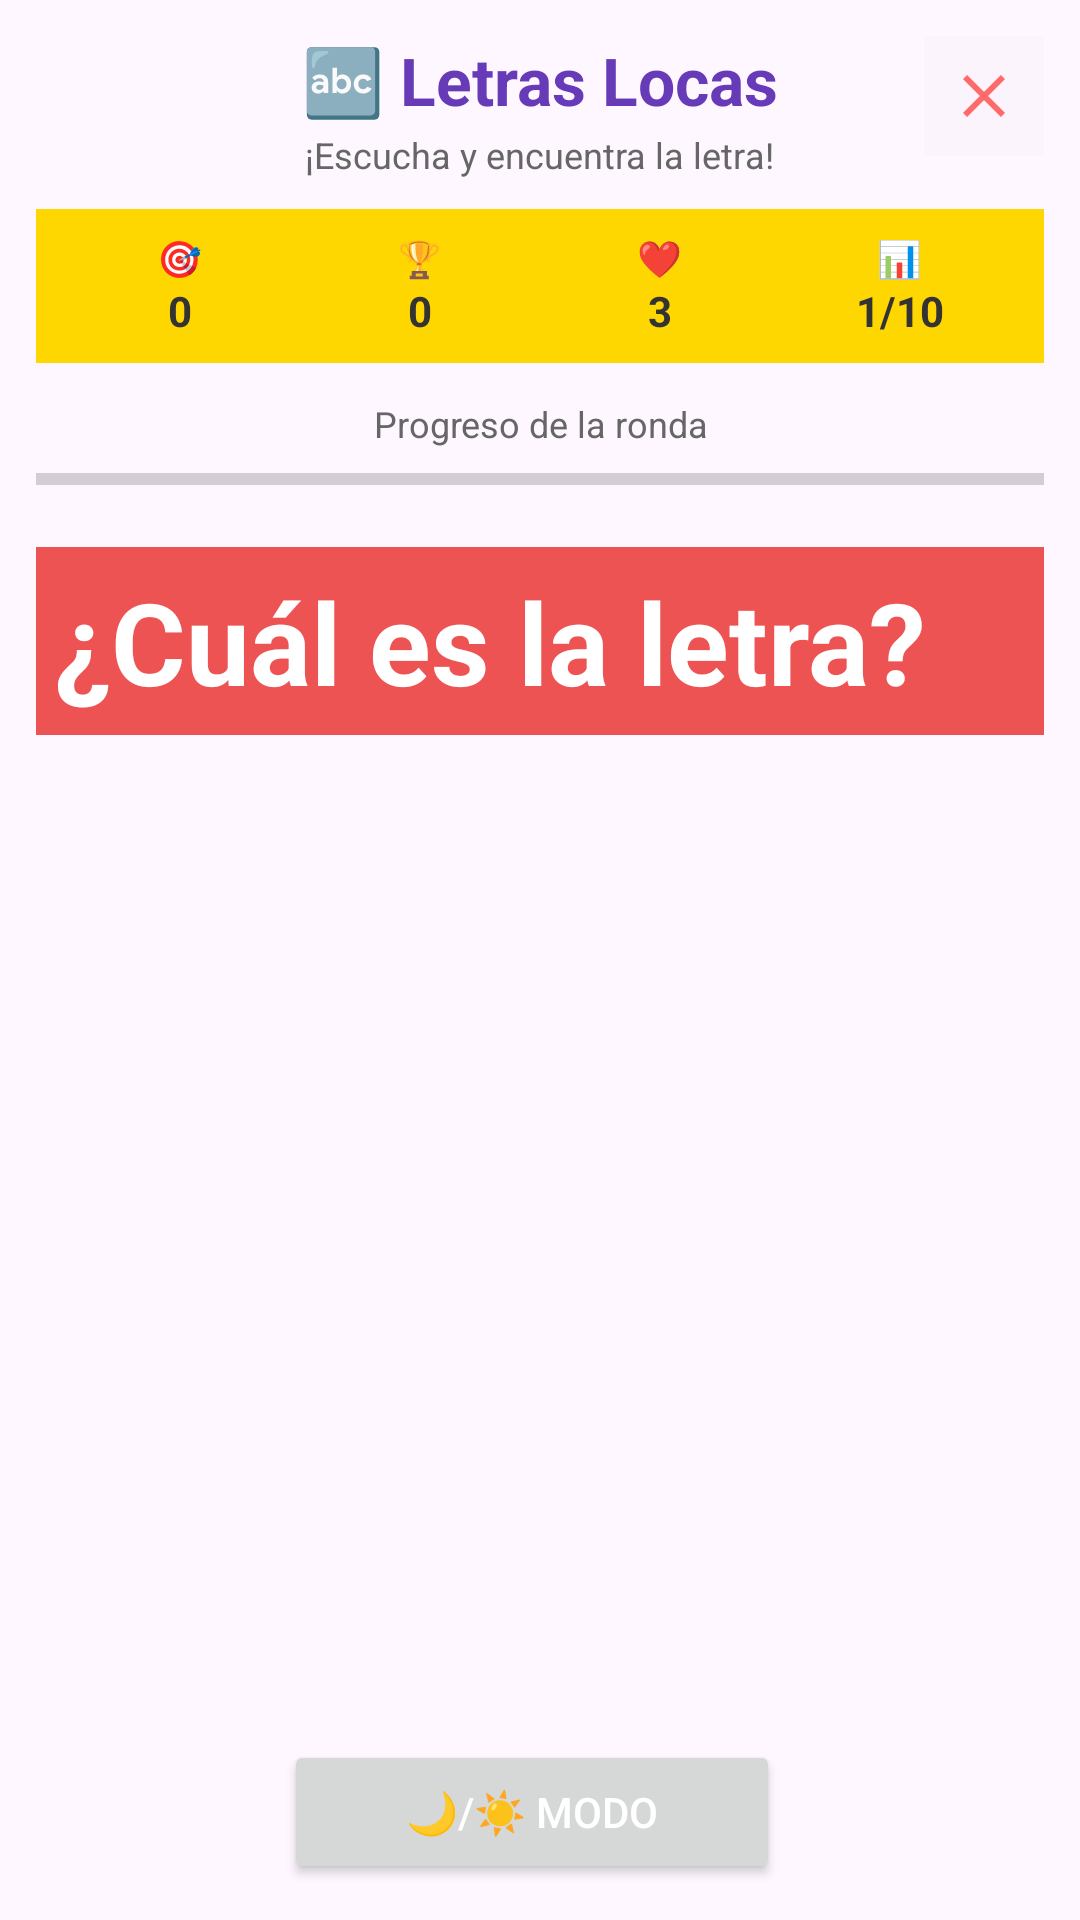

Locate icon controls on the screen. Image size 1080x1920, boxes as (x1, y1, x2, y2).
Cerrar juego: (963, 75, 1005, 117)
